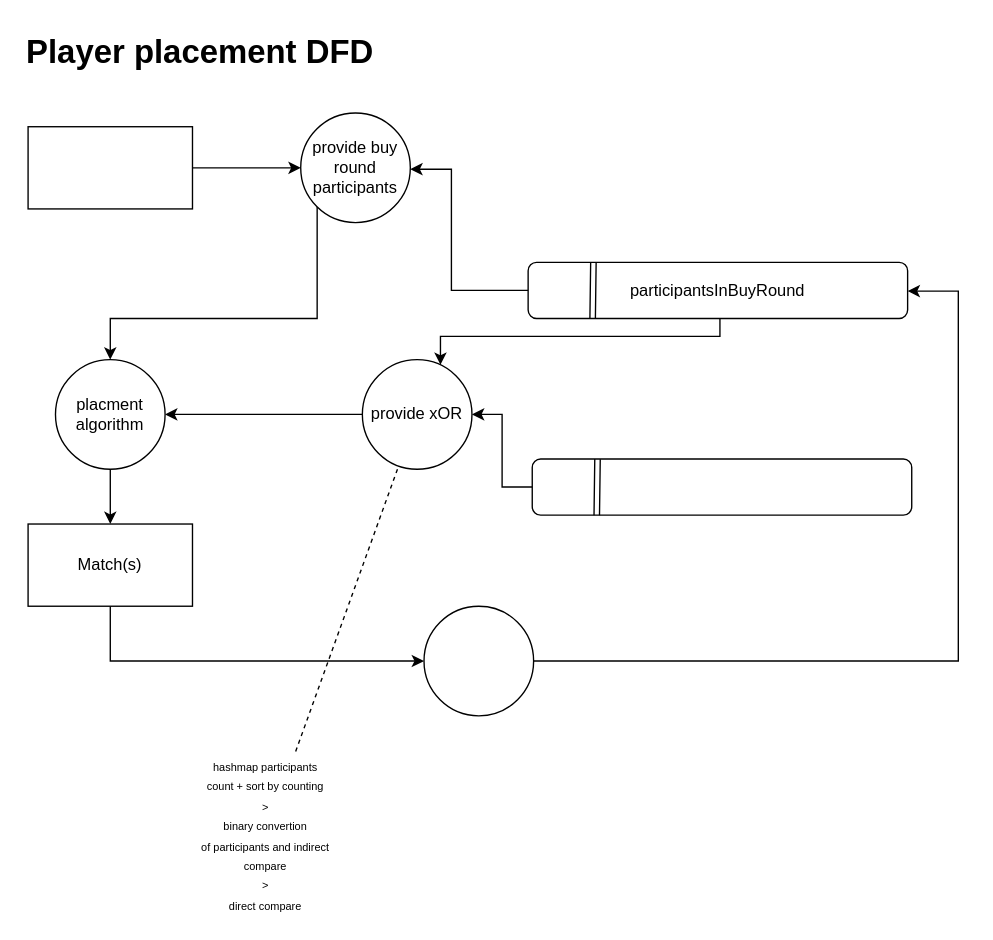
This 993x940 diagram has some shape labels left out. Here are the shapes that lost their labels. From the top down, the centre of each, then its label:
(x=109, y=167): PickleballGame
(x=721, y=486): participants
(x=478, y=660): overwrite w/ court overflow
